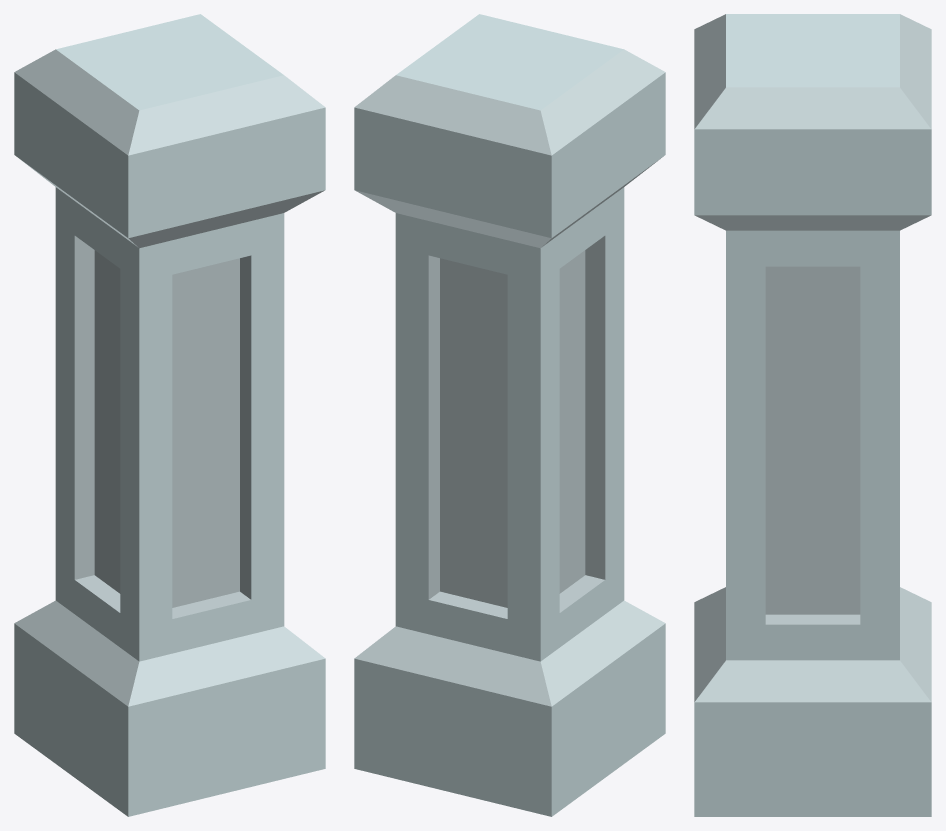
The model's file is statue_column.glb.
3 views of the same model, side by side, from view 1: azimuth 30°, elevation 25°; view 2: azimuth 150°, elevation 25°; view 3: azimuth 270°, elevation 25° (orthographic). The views are drawn at different scales.
Parts seen in each view (by area): view 1: statue_column; view 2: statue_column; view 3: statue_column.
Part boxes in pixels (x1,y1,x2,y2): statue_column: [14, 14, 325, 816]; statue_column: [354, 14, 665, 816]; statue_column: [694, 14, 931, 816].
Bounding box in the file's own units: 0.3 × 1 × 0.3.
Materials: 1 (1 with a texture image).
